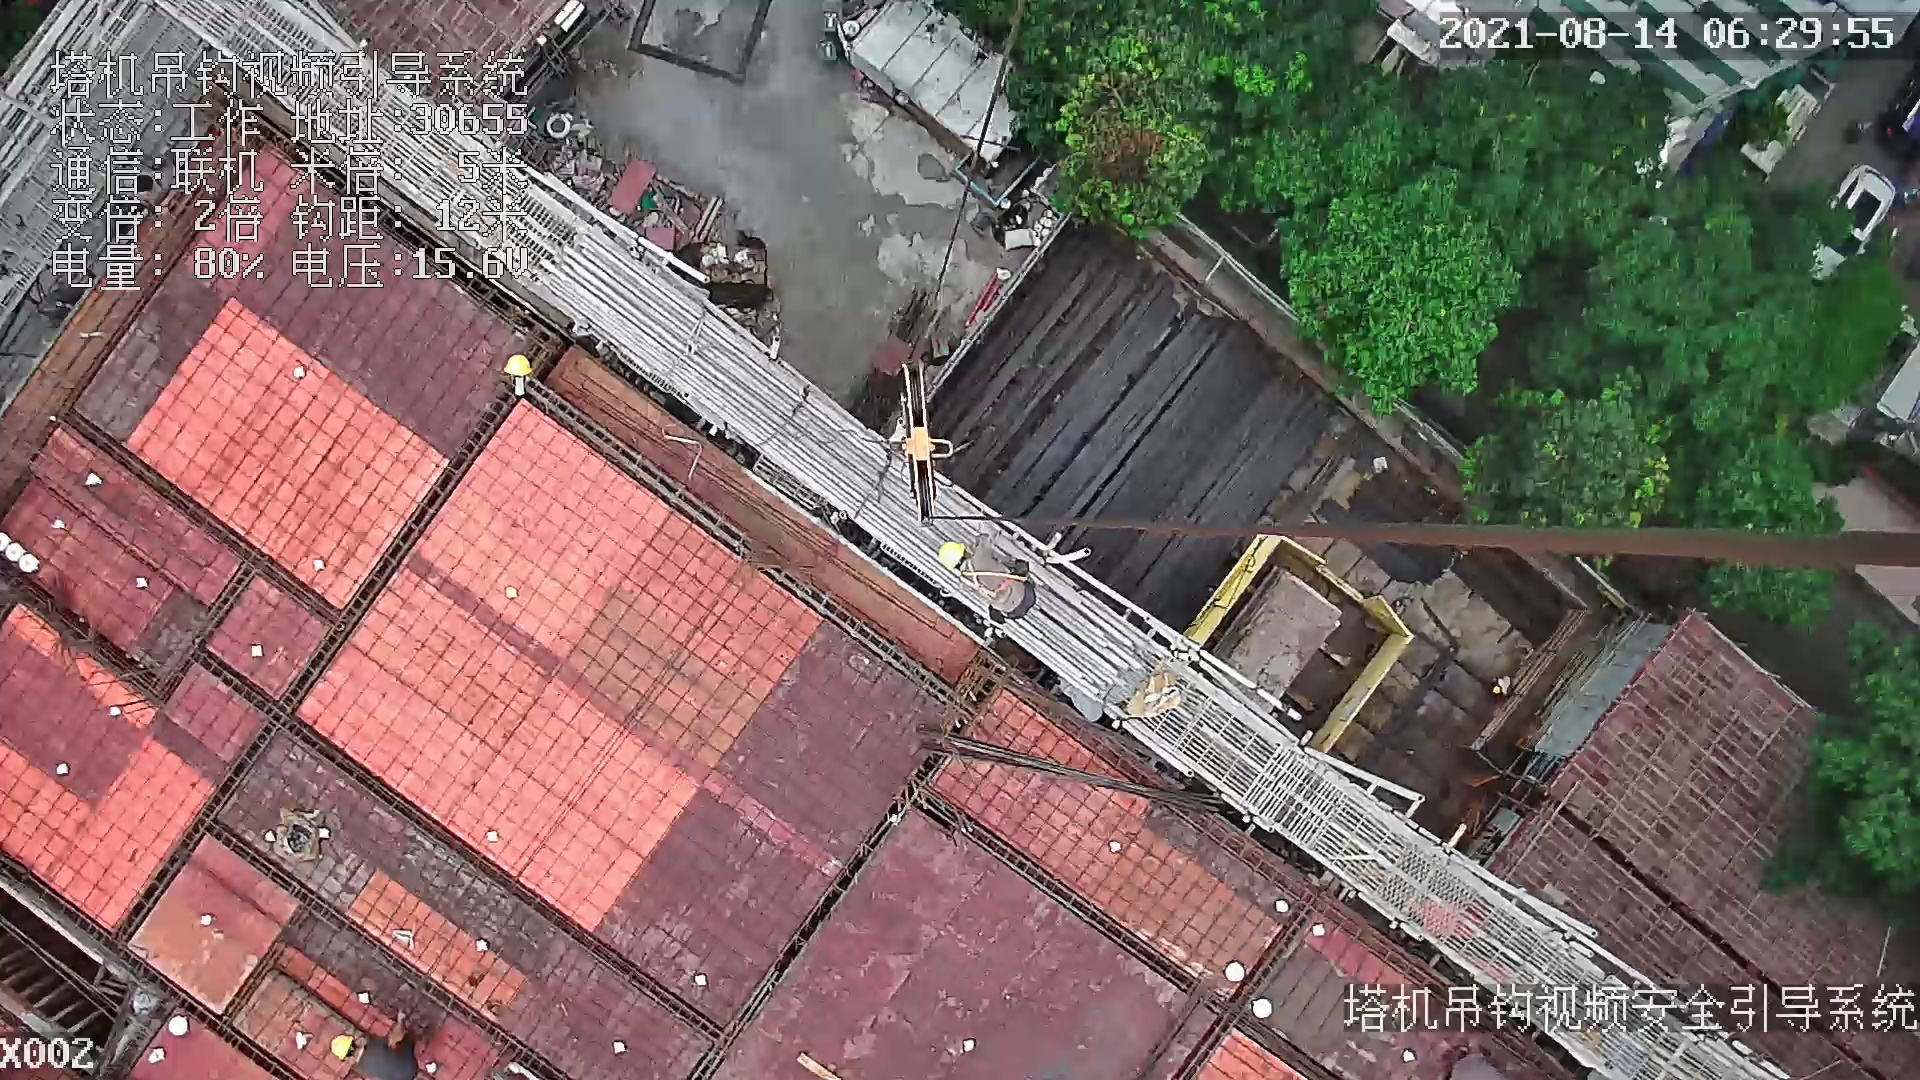helmet: (935, 539, 969, 569), (504, 353, 535, 377)
hook: (896, 359, 951, 530)
person: (935, 546, 1046, 628)
rebar: (973, 265, 1319, 605)
